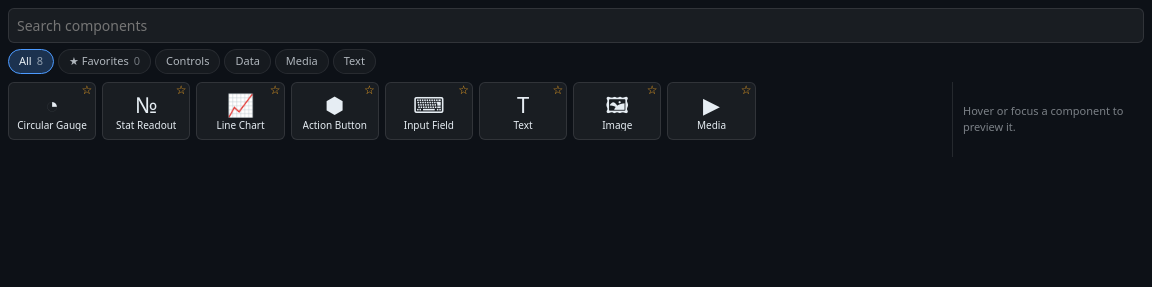
Test: Components tab — single source of truth (CD-404 AC) › hover shows a preview card
Hover over the button "◔ Circular Gauge ☆" at (52, 110), box [8,82,96,140]
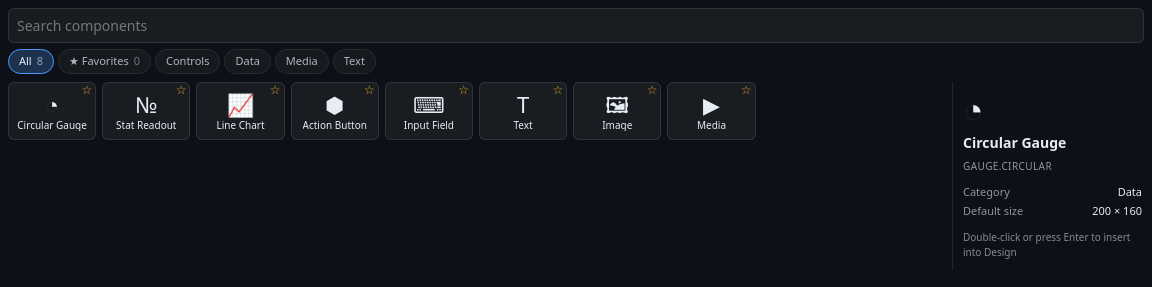
Result: the element with test id "lib-preview" shows "Circular Gauge" at [963,132,1066,152]
